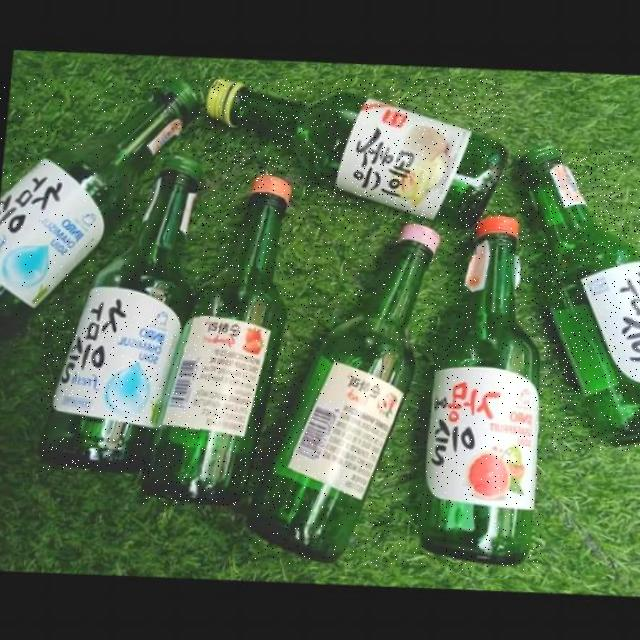glass: (249, 226, 442, 566), (41, 157, 200, 472), (143, 177, 293, 508), (0, 79, 200, 317), (205, 80, 506, 231), (422, 218, 542, 570), (518, 149, 640, 451)
